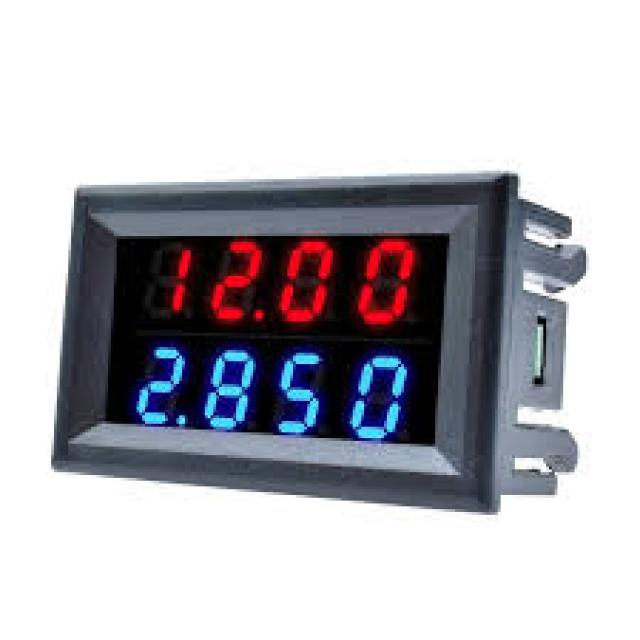.: (252, 302, 267, 325)
0: (347, 340, 415, 447), (357, 234, 424, 330), (285, 236, 339, 324)
1: (154, 230, 204, 318)
2: (214, 235, 280, 333), (128, 335, 195, 430)
5: (274, 346, 335, 444)
8: (205, 342, 260, 438)
screen: (102, 231, 453, 450)
